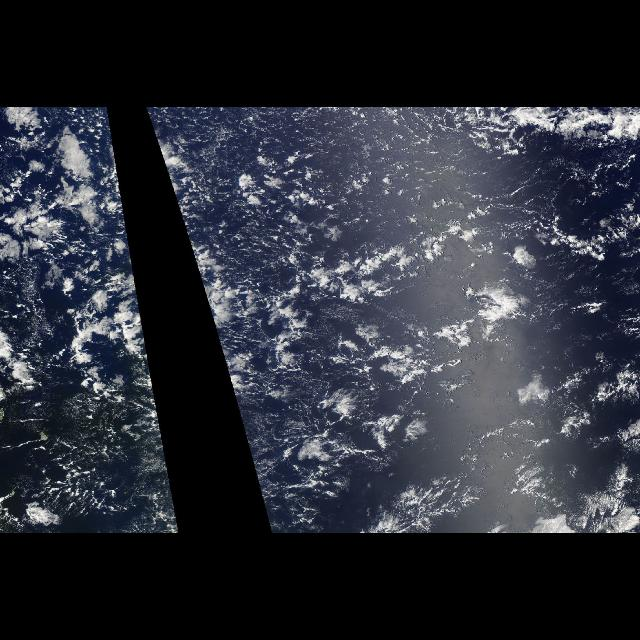Gravel: (151, 109, 449, 522), (152, 388, 162, 434)
Sugar: (145, 110, 630, 228), (55, 110, 129, 228)
